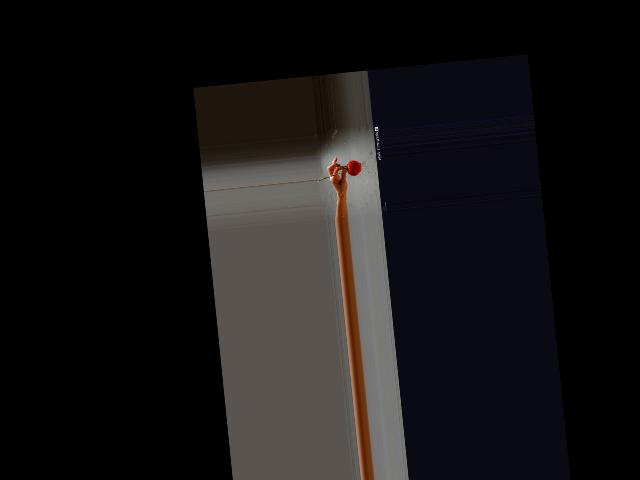tomato: (346, 160, 362, 177)
